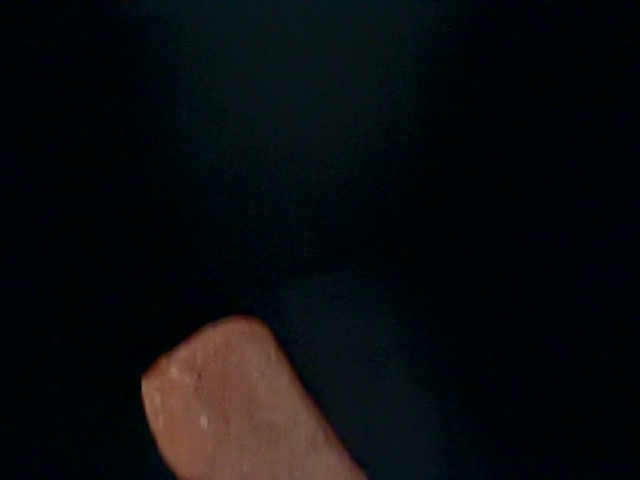KHSLJ: (183, 351, 498, 480)
